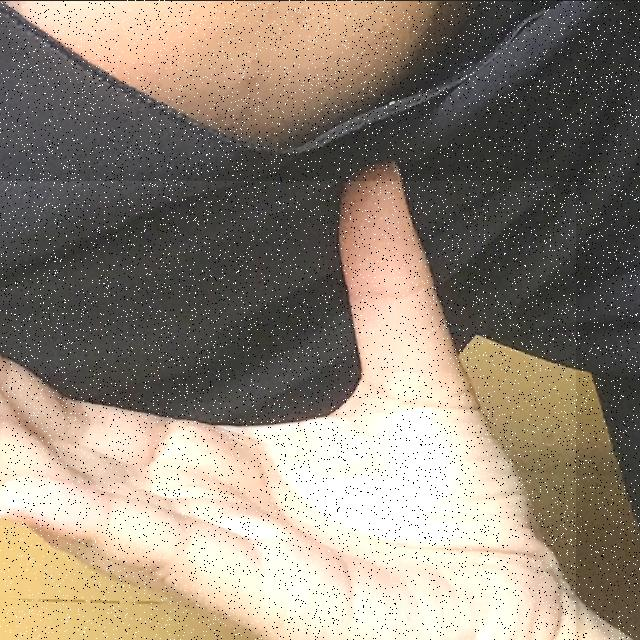mendengar: (0, 180, 576, 640)
